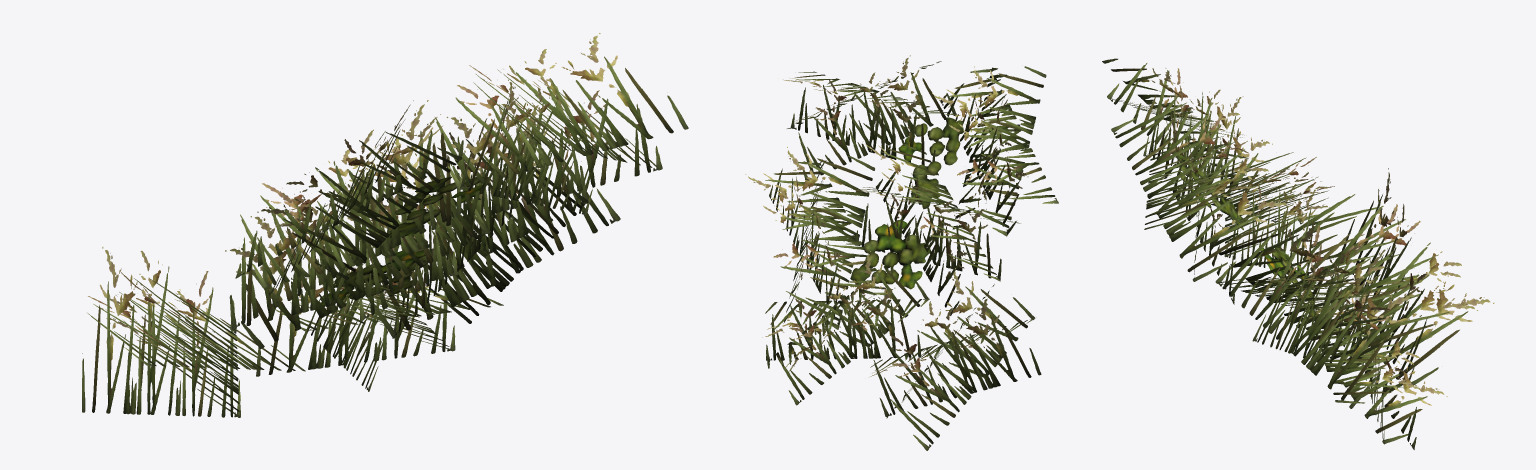
Rendered from temp_forest_grass_02.glb.
3 views of the same model, side by side, from view 1: azimuth 30°, elevation 25°; view 2: azimuth 150°, elevation 25°; view 3: azimuth 270°, elevation 25° (orthographic). The views are drawn at different scales.
Visible parts, largest first — view 1: temp_forest_grass_02; view 2: temp_forest_grass_02; view 3: temp_forest_grass_02.
Boxes of the visible parts, bbox=[...] form: temp_forest_grass_02: bbox=[82, 33, 688, 417]; temp_forest_grass_02: bbox=[745, 55, 1058, 450]; temp_forest_grass_02: bbox=[1102, 58, 1494, 449].
Size of the model in its own units: 10.9 by 10.21 by 10.46.
Materials: 1 (1 with a texture image).
